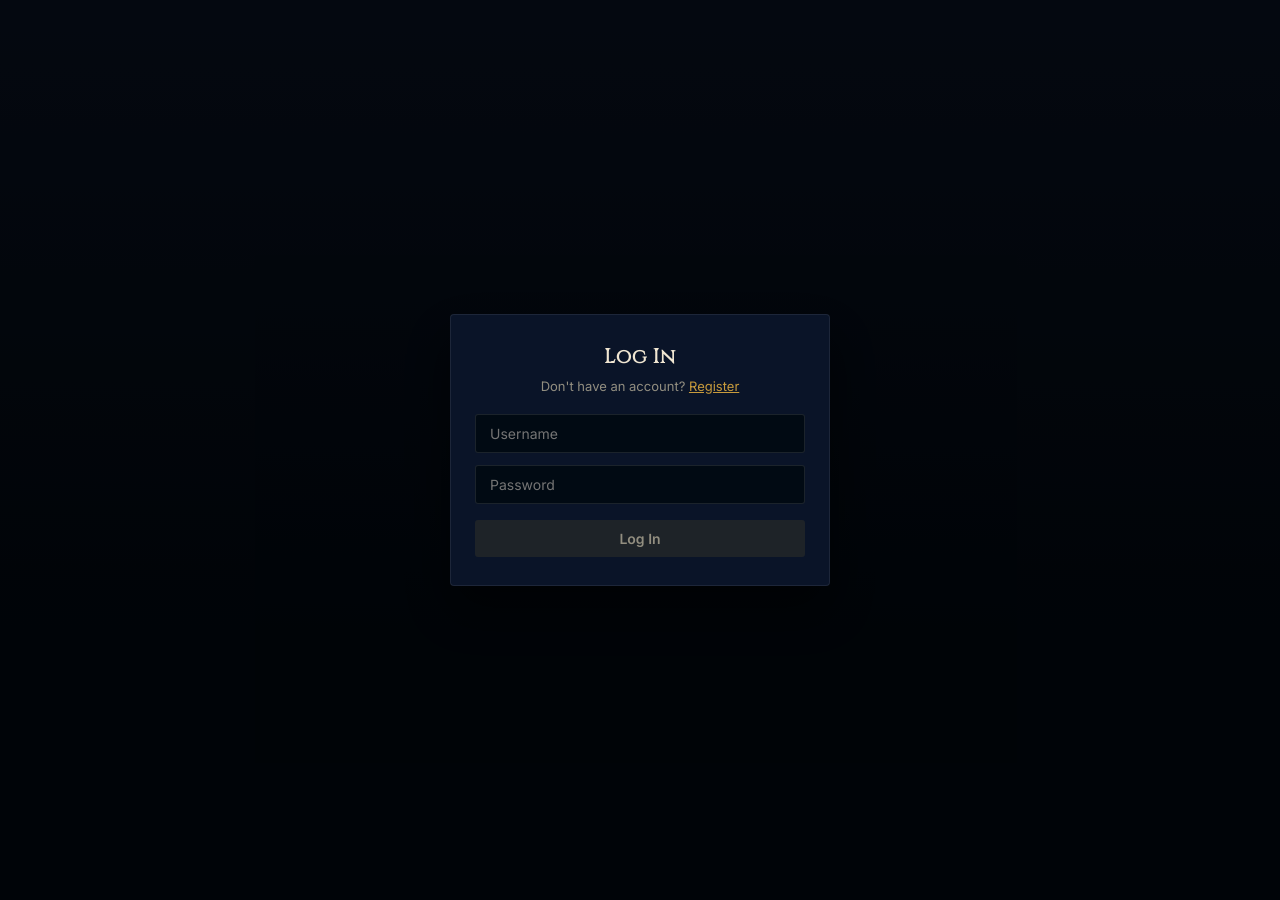
Scenario: AuthModal › rejects a short password before submitting a registration
The width and height of the screenshot is (1280, 900).
Click the button "Register" at (714, 386), box [689, 378, 739, 394]
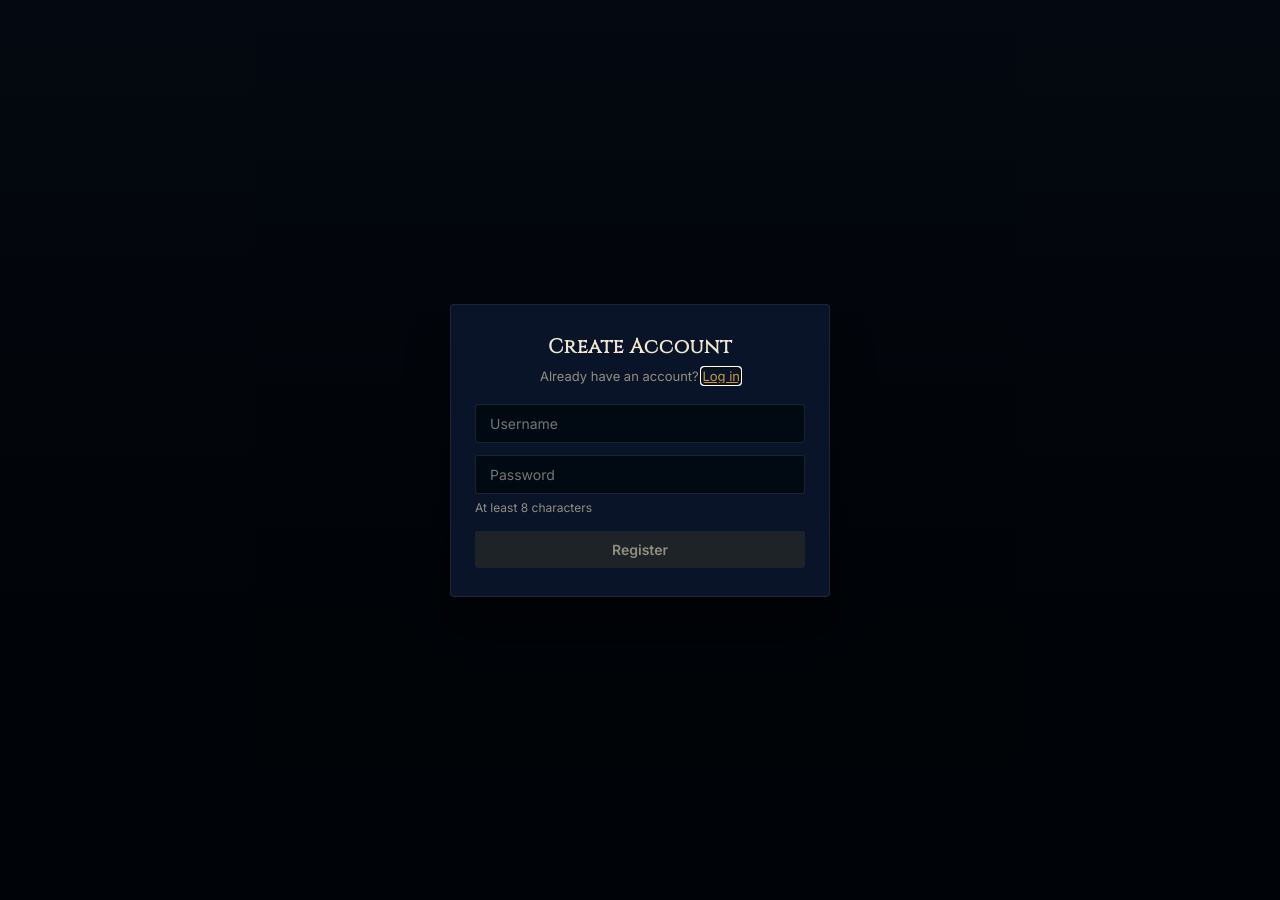
Type "newuser" into the field with placeholder "Username" at (640, 423), box [475, 404, 805, 442]
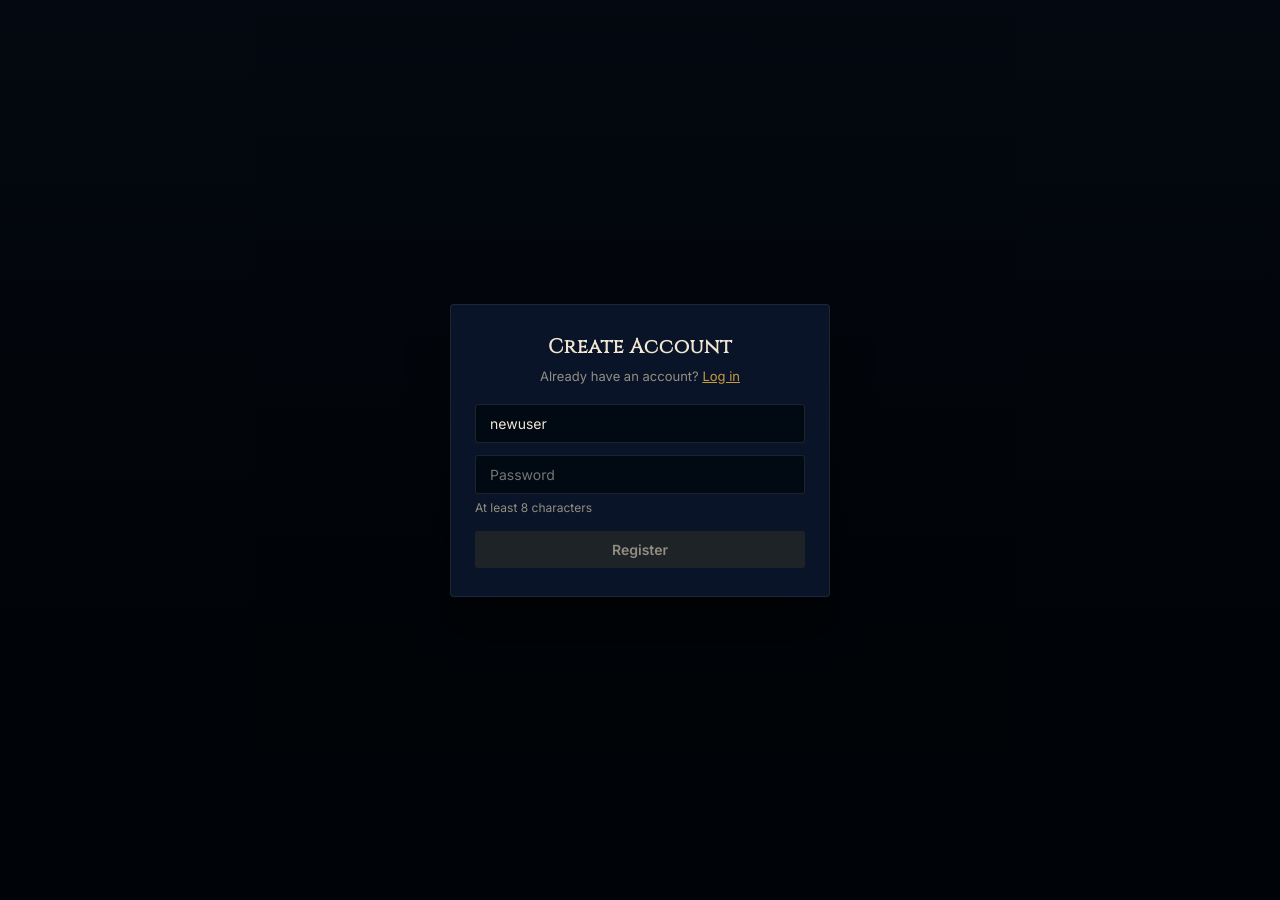
Type "short" into the password field with placeholder "Password" at (640, 474), box [475, 454, 805, 494]
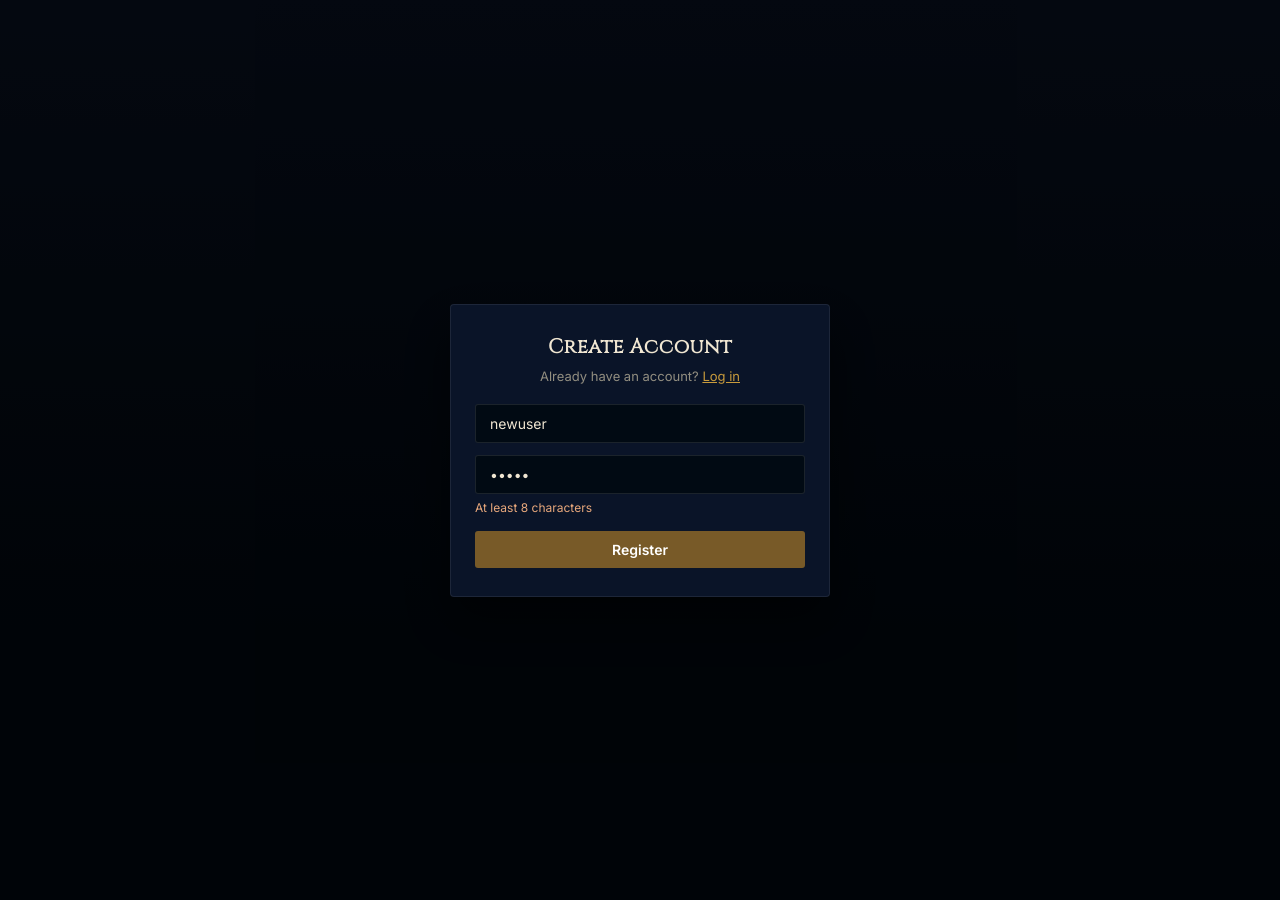
Click the button "Register" at (640, 549), box [475, 530, 805, 568]
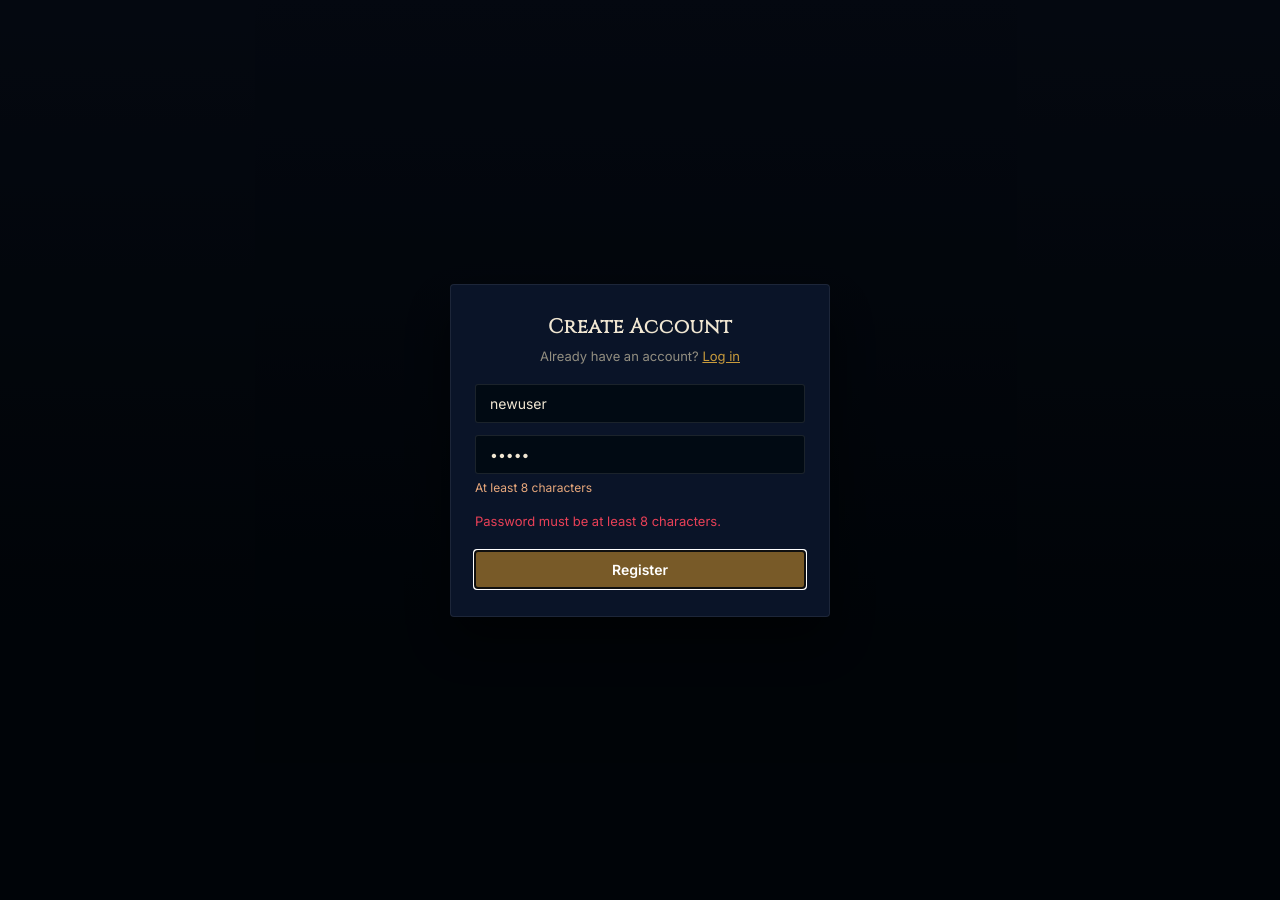
Result: the text "Password must be at least 8 characters." is shown at [475, 512, 721, 528]
